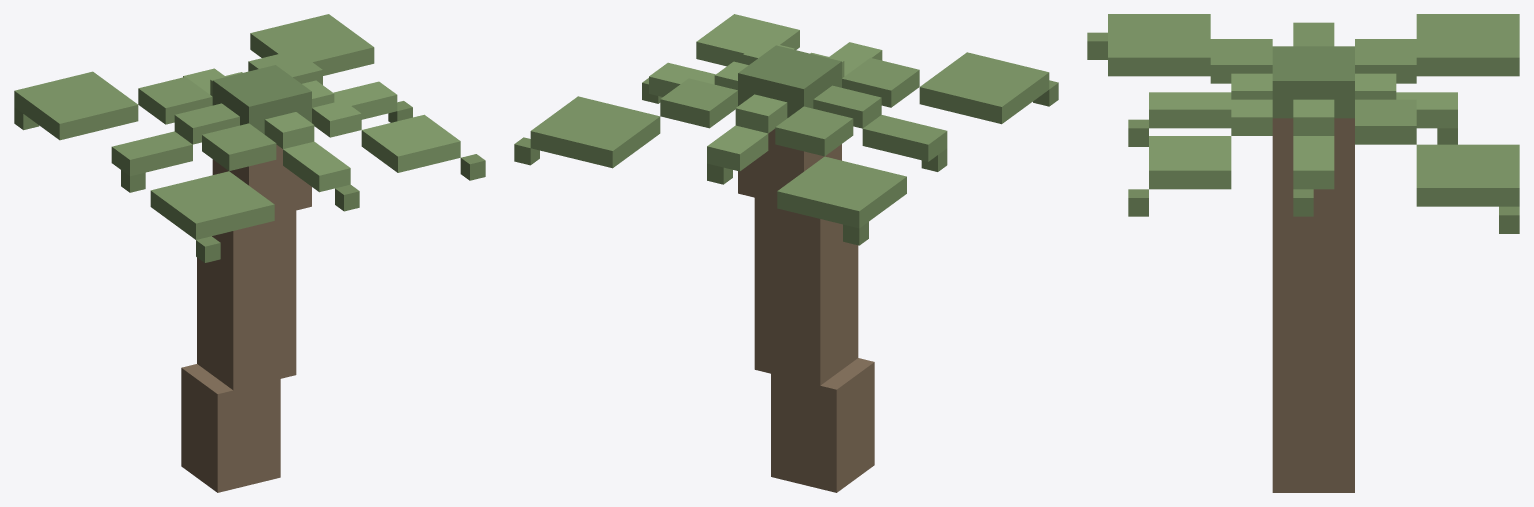
The model's file is palmera_costera_01.glb.
3 views of the same model, side by side, from view 1: azimuth 30°, elevation 25°; view 2: azimuth 150°, elevation 25°; view 3: azimuth 270°, elevation 25° (orthographic). The views are drawn at different scales.
Visible parts, largest first — view 1: palmera_costera_01; view 2: palmera_costera_01; view 3: palmera_costera_01.
Part boxes in pixels (bbox=[...]): palmera_costera_01: bbox=[14, 14, 485, 492]; palmera_costera_01: bbox=[514, 14, 1058, 492]; palmera_costera_01: bbox=[1087, 14, 1519, 492].
Bounding box in the file's own units: 2.1 × 2.3 × 2.1.
